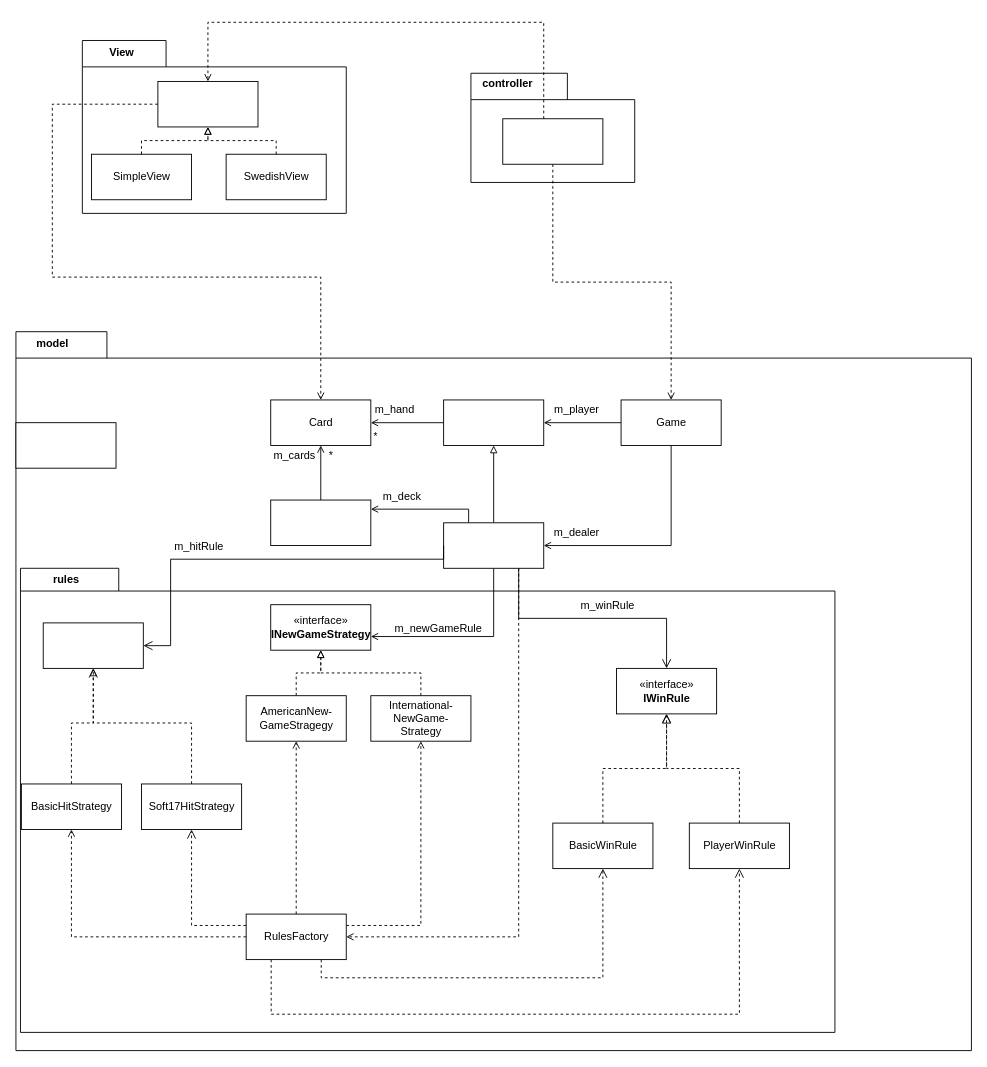
Some shapes in this 987 by 1067 pixel diagram are drawn without their labels. The shapes that lost their labels are listed below. From the top down, each one's centre as x and y in pixels, then its label:
point 207,104: «interface» IView
point 552,141: PlayGame
point 493,422: Player
point 65,445: Object
point 320,522: Deck
point 493,545: Dealer
point 92,645: «interface» IHitStrategy
